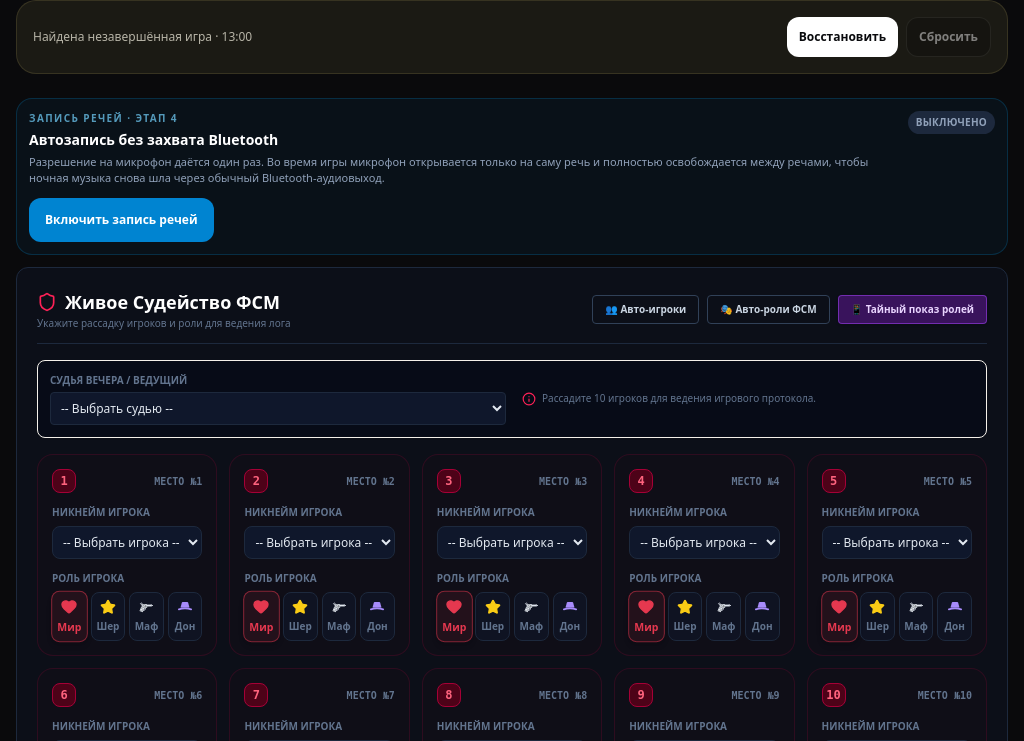
Scenario: Live Game table-decision recovery › restores the exact table-decision selection when generic Undo restores history
The image size is (1024, 741).
Step 1. Click the button "Восстановить" → (842, 37), box [787,17,898,57]
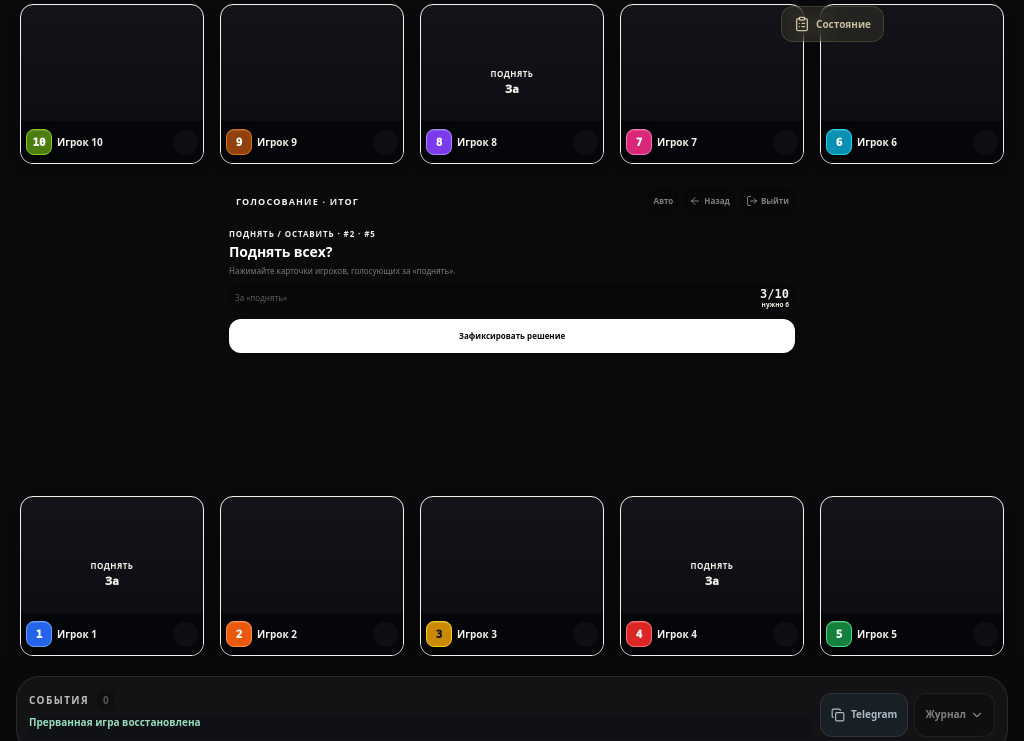
Check: the text "3/10" is shown, box [760,288,789,308]
The judge toolbar with «Отмена» is gone: generic Undo is the keyboard shortcut (and the steps' own «Назад»).
Step 2. Press KeyZ
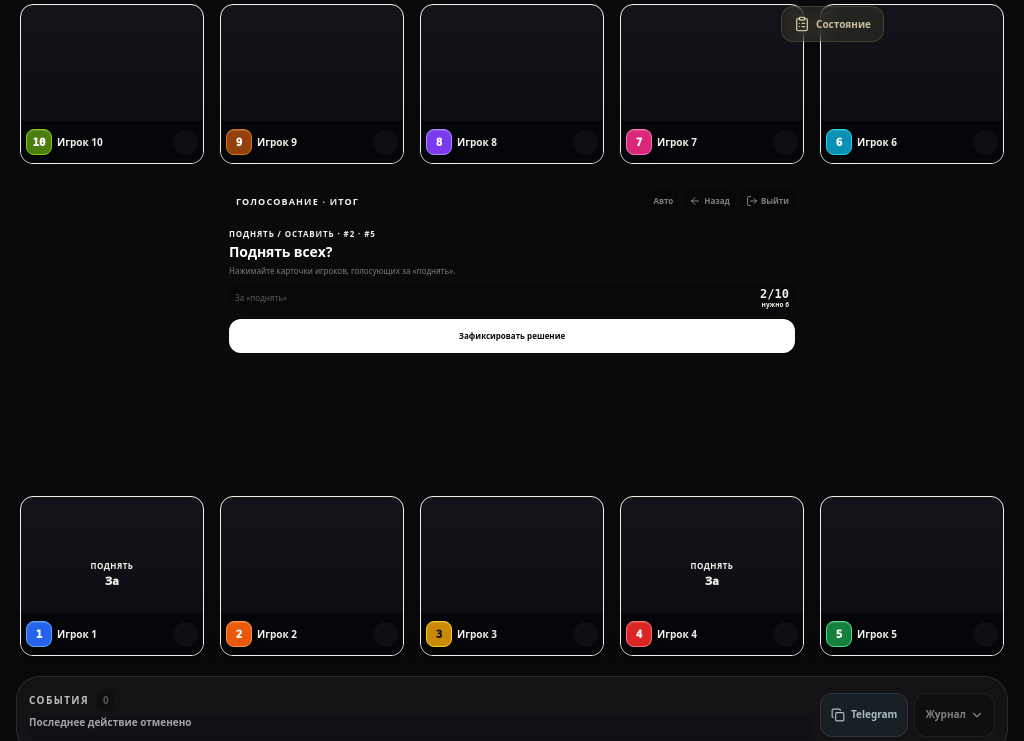
Check: the text "2/10" is shown, box [760,288,789,308]
